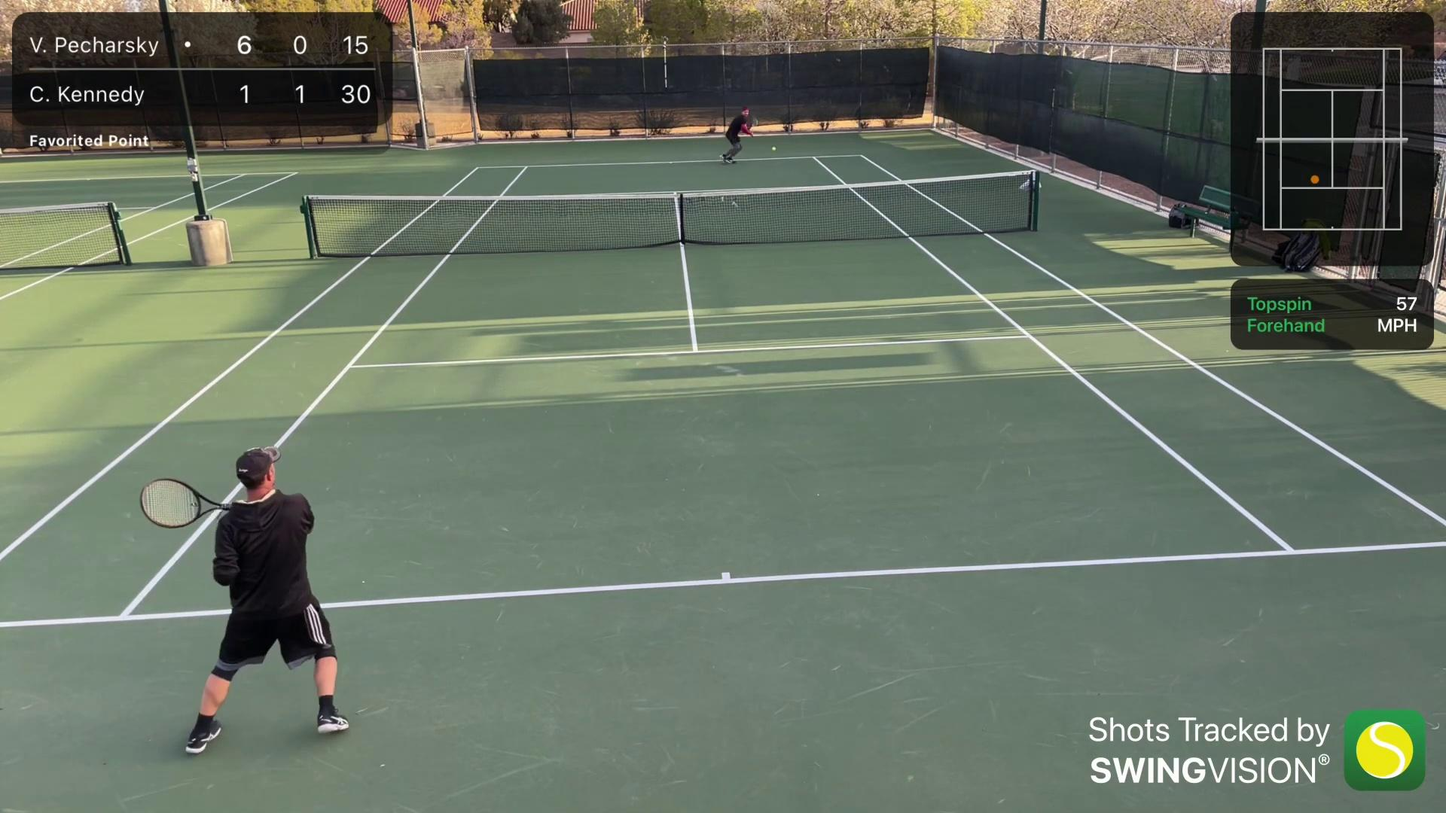ball: (771, 146, 778, 152)
